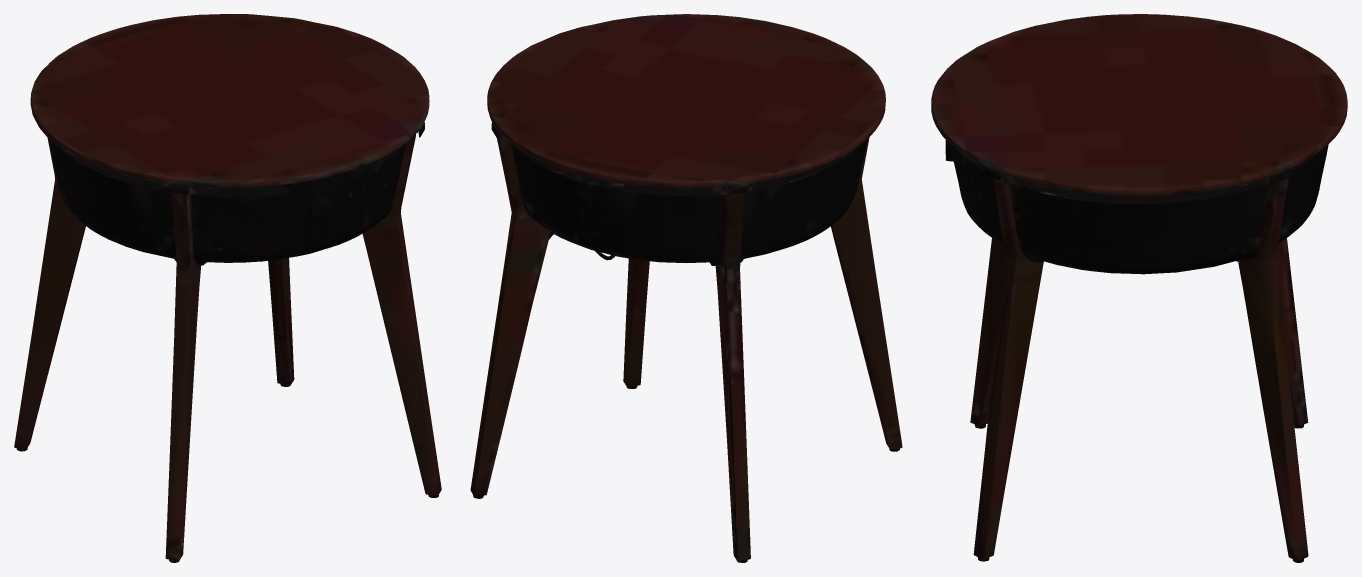
File: ikea_air_purifier.glb
The picture shows the model from 3 angles, left to right: view 1: azimuth 30°, elevation 25°; view 2: azimuth 150°, elevation 25°; view 3: azimuth 270°, elevation 25°; orthographic projection. The views are drawn at different scales.
Visible parts, largest first — view 1: ikea_air_purifier; view 2: ikea_air_purifier; view 3: ikea_air_purifier.
Boxes of the visible parts, x1,y1,x2,y2 form: ikea_air_purifier: (14, 14, 441, 562); ikea_air_purifier: (470, 14, 902, 562); ikea_air_purifier: (931, 14, 1347, 562).
Bounding box in the file's own units: 0.54 × 0.5611 × 0.5399.
Materials: 2 (2 with a texture image).
